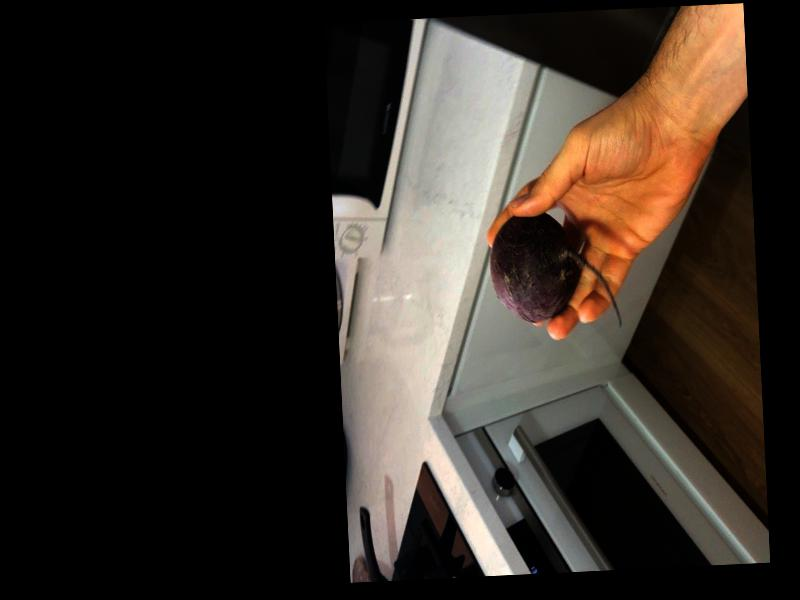Beet: (487, 210, 622, 335)
